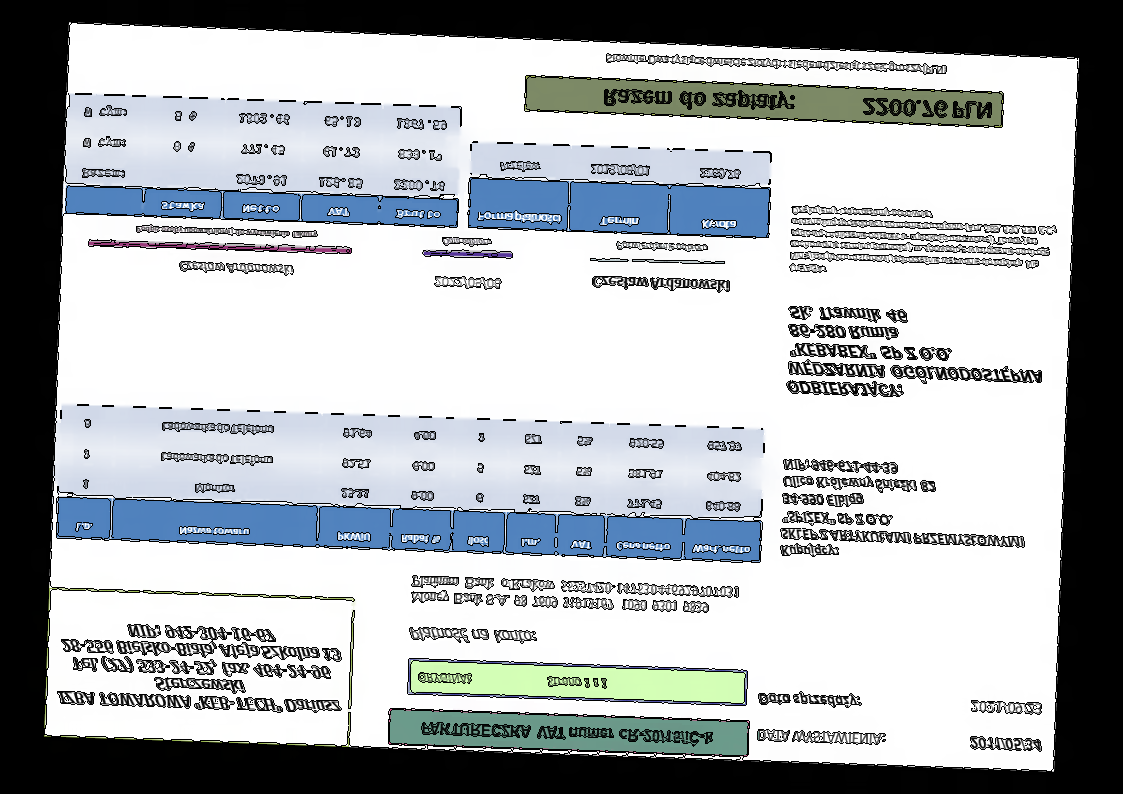Table: (54, 402, 767, 565), (63, 92, 463, 230), (466, 140, 773, 241)
TextBox: (54, 617, 345, 719), (777, 455, 1032, 569), (784, 302, 1048, 405), (787, 202, 1059, 286), (600, 83, 995, 123), (407, 573, 743, 619), (602, 49, 949, 78), (419, 719, 717, 749), (414, 668, 609, 694), (132, 223, 320, 243), (588, 273, 733, 297), (406, 623, 539, 648), (754, 726, 887, 750), (177, 258, 296, 281), (756, 688, 863, 712), (967, 734, 1045, 755), (613, 239, 710, 255), (968, 698, 1044, 718), (432, 273, 502, 292), (437, 235, 494, 250)
